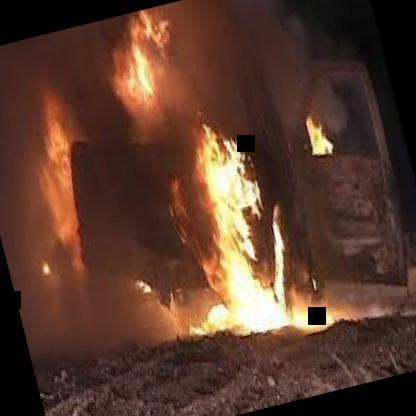fire: (6, 2, 332, 385)
